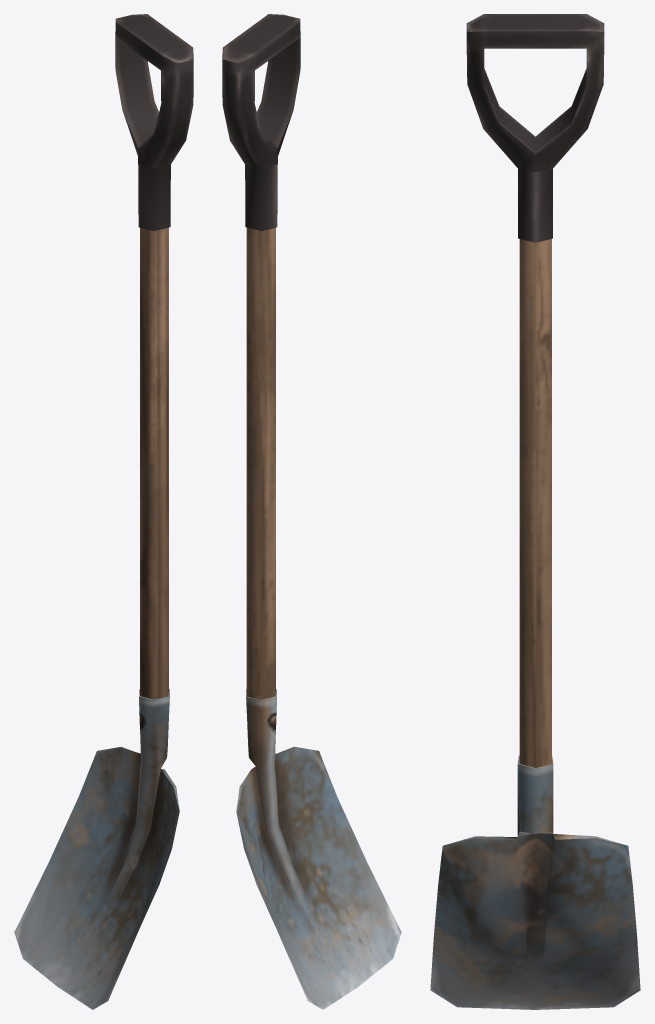
Rendered from shovel.gltf.
3 renders of one model, left to right at view 1: azimuth 30°, elevation 25°; view 2: azimuth 150°, elevation 25°; view 3: azimuth 270°, elevation 25°, orthographic. The views are drawn at different scales.
Parts seen in each view (by area): view 1: ITEM_shovel02; view 2: ITEM_shovel02; view 3: ITEM_shovel02.
Boxes of the visible parts, x1,y1,x2,y2 form: ITEM_shovel02: (14,14,193,1009); ITEM_shovel02: (222,14,401,1009); ITEM_shovel02: (430,14,640,1009).
Size of the model in its own units: 0.1536 by 1.2 by 0.2202.
1 material, 1 textured.
